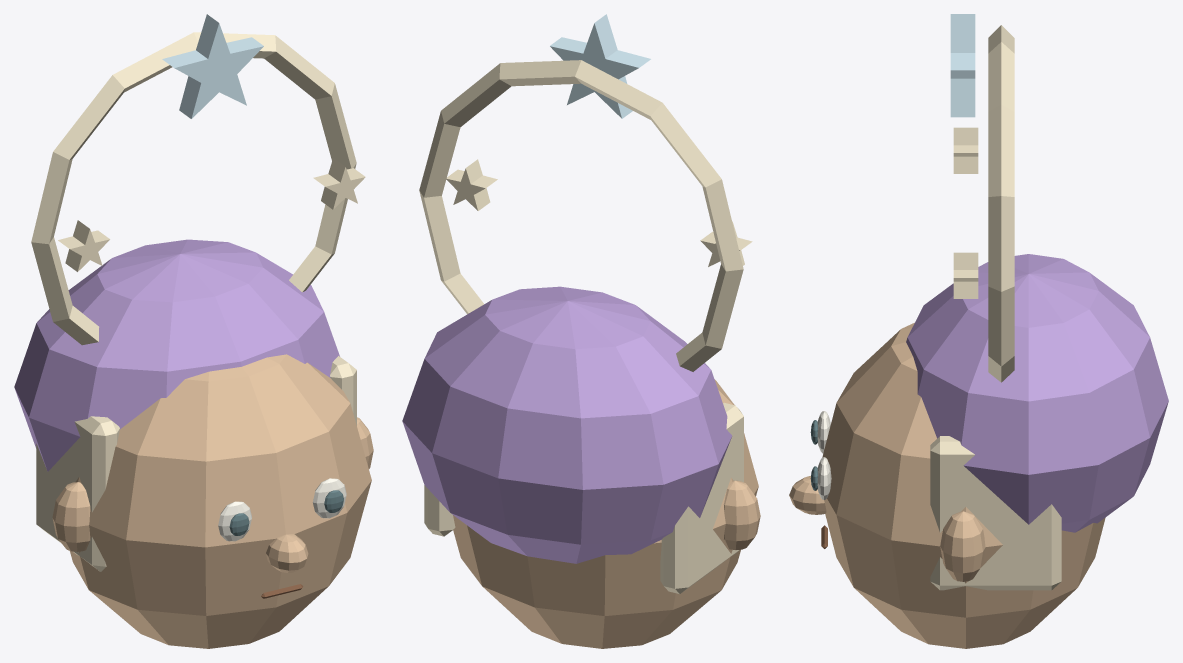
The model's file is Oracle_Archer_Head.fbx.
3 renders of one model, left to right at view 1: azimuth 30°, elevation 25°; view 2: azimuth 150°, elevation 25°; view 3: azimuth 270°, elevation 25°, orthographic.
Parts seen in each view (by area): view 1: Oracle_Archer_Head; view 2: Oracle_Archer_Head; view 3: Oracle_Archer_Head.
Part boxes in pixels (x1,y1,x2,y2): Oracle_Archer_Head: (14,14,373,648); Oracle_Archer_Head: (402,14,760,648); Oracle_Archer_Head: (789,14,1168,648).
Size of the model in its own units: 68.8 by 125 by 69.4.
